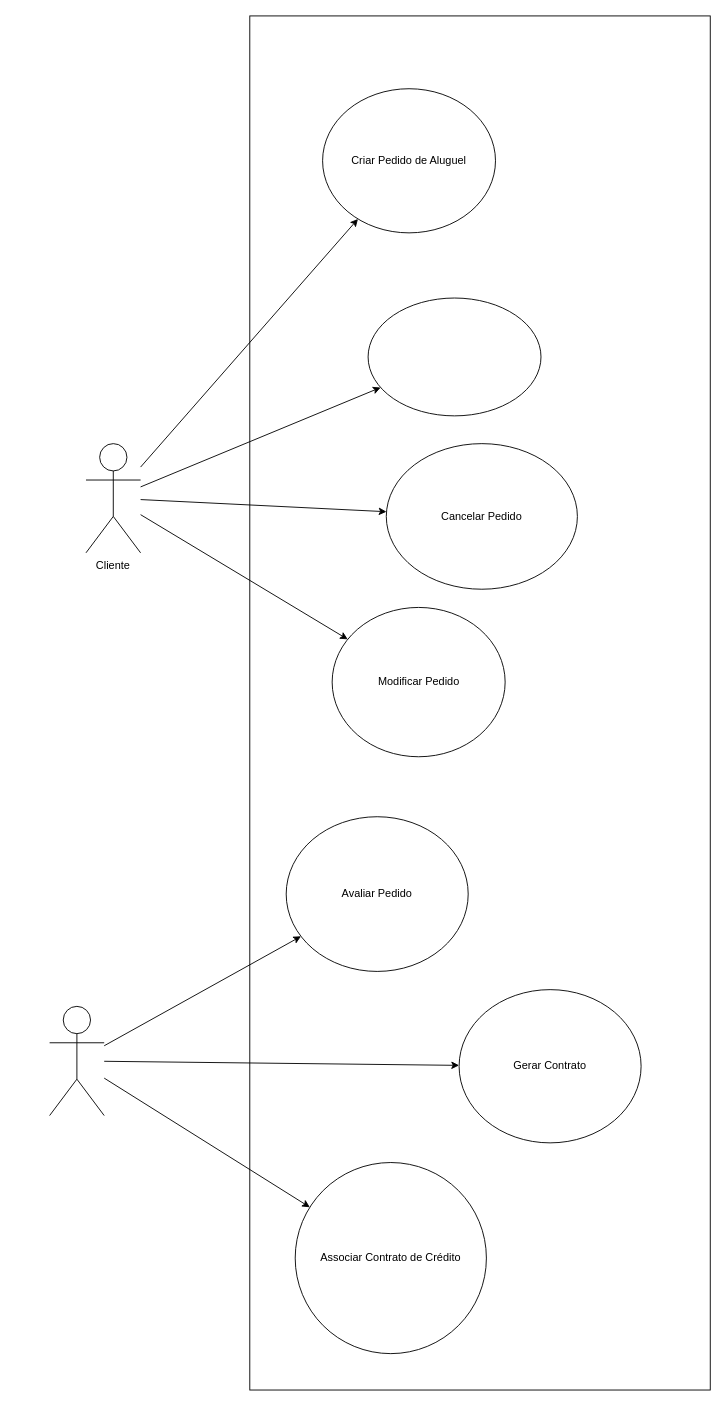
The diagram is 726 pixels wide and 1413 high, and some of its shapes have lost their labels. The centre of each missing label's shape, as x and y in pixels:
"Agente (Banco/Empresa)" belongs at (x=76, y=1060).
"Consultar Pedido" belongs at (x=454, y=356).
